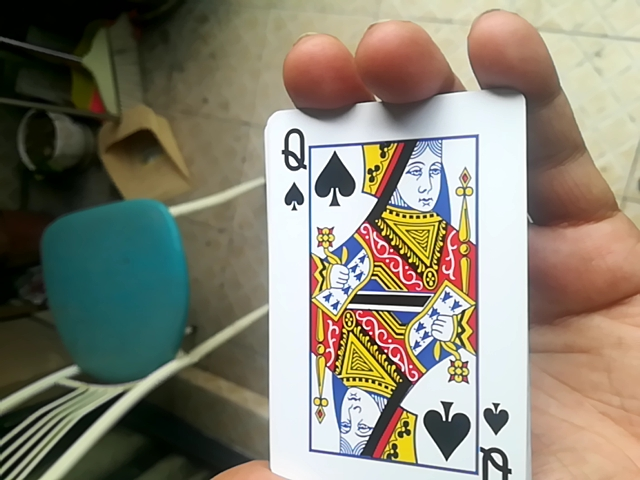ht q: (254, 85, 530, 480)
